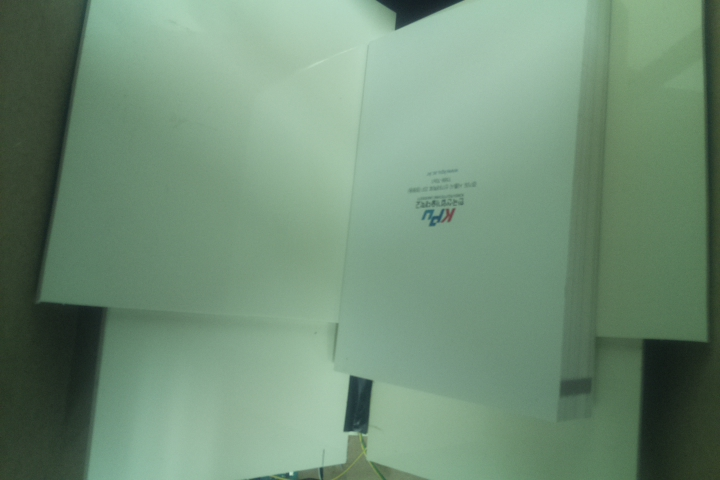book: (325, 1, 618, 425)
